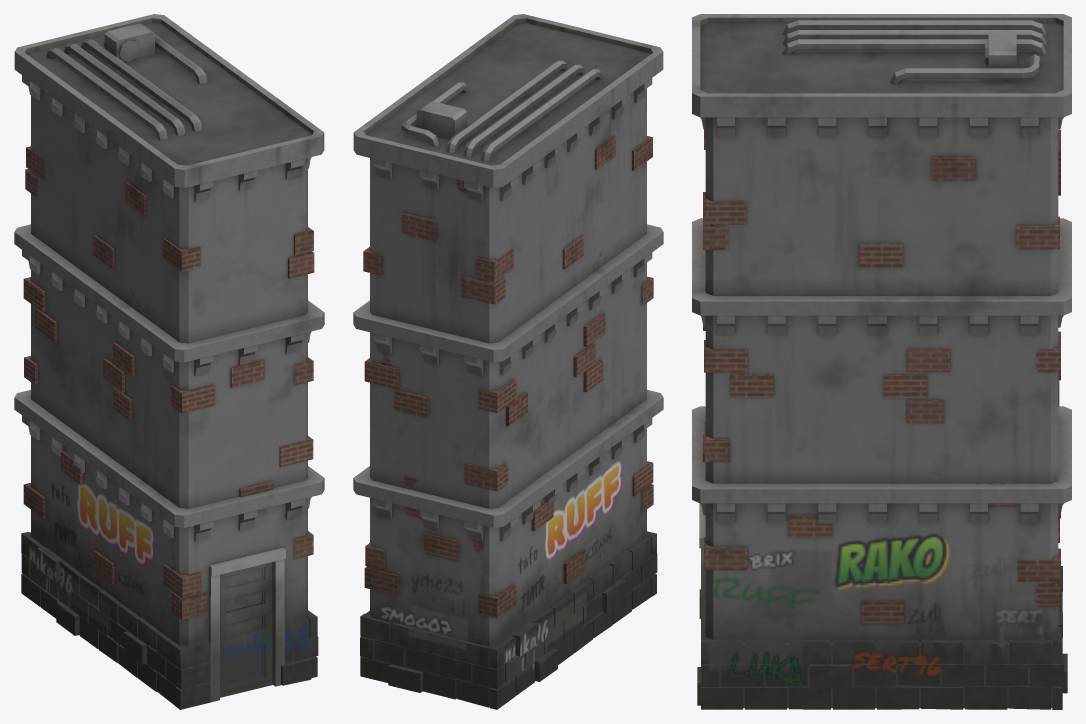
Rendered from building_3Story_Slim.glb.
3 views of the same model, side by side, from view 1: azimuth 30°, elevation 25°; view 2: azimuth 150°, elevation 25°; view 3: azimuth 270°, elevation 25° (orthographic). The views are drawn at different scales.
Parts seen in each view (by area): view 1: 3Story_Slim_low; view 2: 3Story_Slim_low; view 3: 3Story_Slim_low.
Part boxes in pixels (x1,y1,x2,y2): 3Story_Slim_low: (14, 14, 324, 709); 3Story_Slim_low: (353, 14, 663, 709); 3Story_Slim_low: (692, 14, 1071, 709).
Bounding box in the file's own units: 1.12 × 3.99 × 2.15.
1 material, 1 textured.
